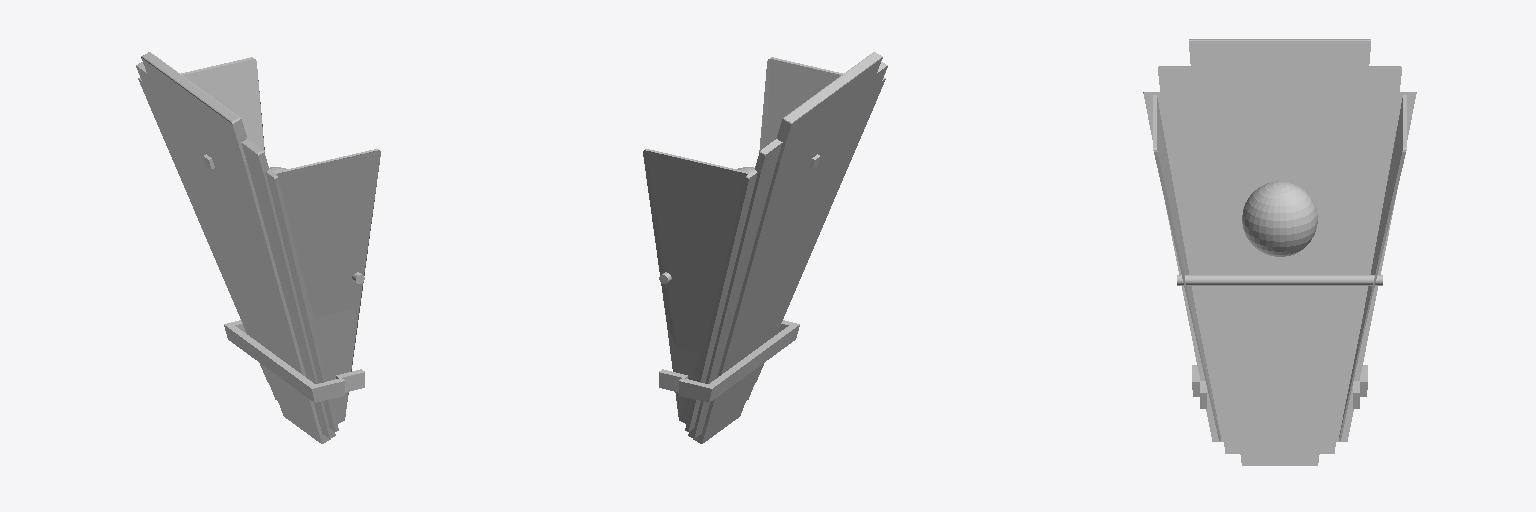
File: WallLight.obj
3 views of the same model, side by side, from view 1: azimuth 30°, elevation 25°; view 2: azimuth 150°, elevation 25°; view 3: azimuth 270°, elevation 25° (orthographic).
Visible parts, largest first — view 1: Cube.070_Cube.077; view 2: Cube.070_Cube.077; view 3: Cube.070_Cube.077.
Boxes of the visible parts, <box> form: Cube.070_Cube.077: <box>136,52,380,443</box>; Cube.070_Cube.077: <box>643,52,887,443</box>; Cube.070_Cube.077: <box>1143,39,1416,465</box>.
Size of the model in its own units: 0.3941 by 1.01 by 0.6733.